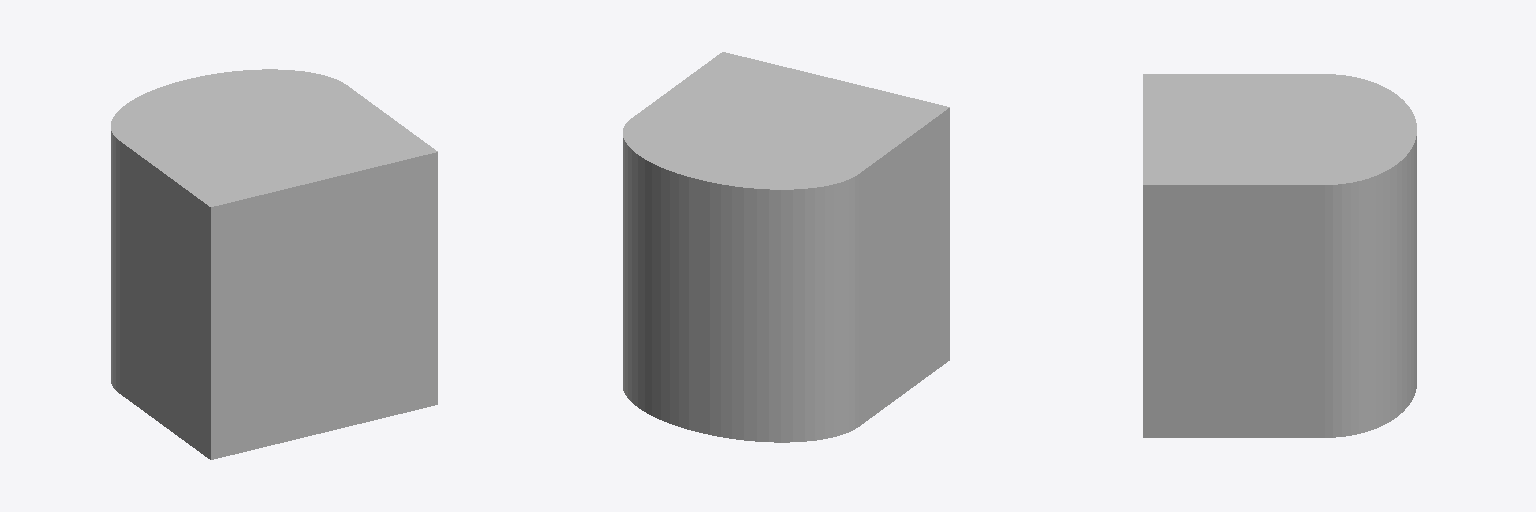
File: TOOLS_Templates_Spanner_Cut_Outs.obj
3 renders of one model, left to right at view 1: azimuth 30°, elevation 25°; view 2: azimuth 150°, elevation 25°; view 3: azimuth 270°, elevation 25°, orthographic.
Parts seen in each view (by area): view 1: object_1; view 2: object_1; view 3: object_1.
Boxes of the visible parts, box(x1,y1,x2,y2) form: object_1: box(111, 69, 437, 459); object_1: box(623, 52, 949, 442); object_1: box(1143, 74, 1416, 437).
Bounding box in the file's own units: 9.42 × 10 × 9.81.